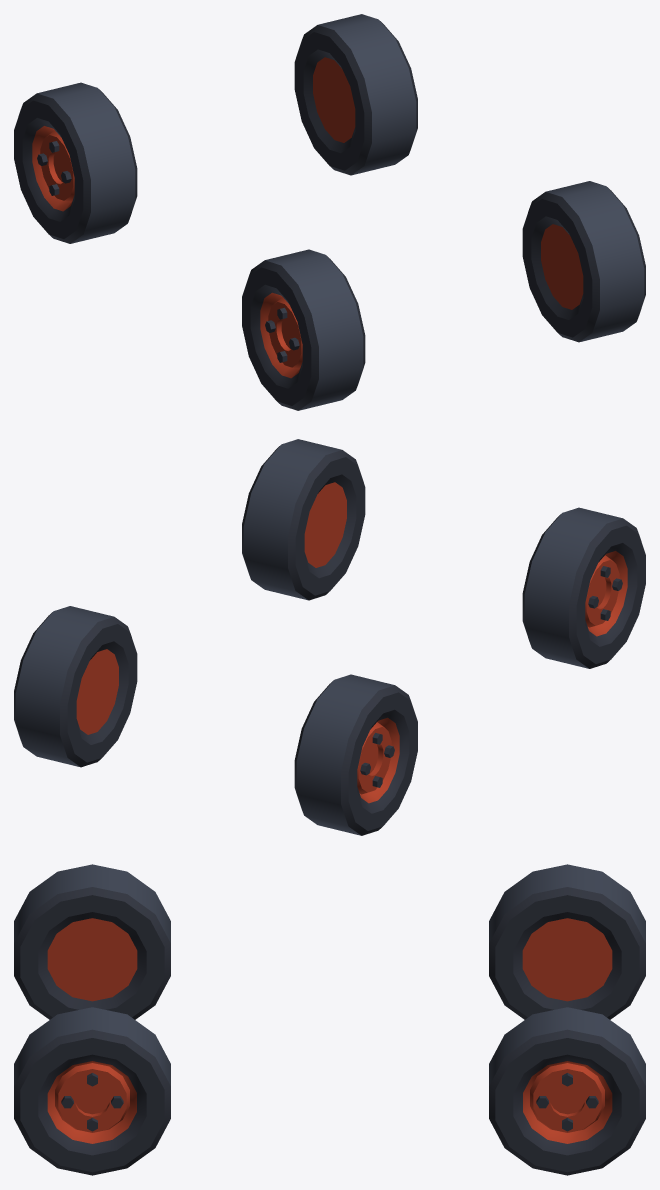
The model's file is WheelsHeavy.fbx.
3 views of the same model, one above another, from view 1: azimuth 30°, elevation 25°; view 2: azimuth 150°, elevation 25°; view 3: azimuth 270°, elevation 25° (orthographic). The views are drawn at different scales.
Visible parts, largest first — view 1: WheelHeavyFrontRight, WheelHeavyRearLeft, WheelHeavyFrontLeft, WheelHeavyRearRight; view 2: WheelHeavyFrontLeft, WheelHeavyRearRight, WheelHeavyFrontRight, WheelHeavyRearLeft; view 3: WheelHeavyFrontLeft, WheelHeavyRearLeft, WheelHeavyRearRight, WheelHeavyFrontRight.
Boxes of the visible parts, left/top/right/bottom form: WheelHeavyFrontRight: left=242, top=249, right=365, bottom=410; WheelHeavyRearLeft: left=294, top=14, right=417, bottom=175; WheelHeavyFrontLeft: left=522, top=181, right=645, bottom=342; WheelHeavyRearRight: left=14, top=82, right=137, bottom=243; WheelHeavyFrontLeft: left=242, top=439, right=365, bottom=600; WheelHeavyRearRight: left=294, top=674, right=417, bottom=835; WheelHeavyFrontRight: left=522, top=507, right=645, bottom=668; WheelHeavyRearLeft: left=14, top=606, right=137, bottom=767; WheelHeavyFrontLeft: left=14, top=1007, right=170, bottom=1175; WheelHeavyRearLeft: left=489, top=1007, right=645, bottom=1175; WheelHeavyRearRight: left=489, top=864, right=645, bottom=1019; WheelHeavyFrontRight: left=14, top=864, right=170, bottom=1019.
Bounding box in the file's own units: 185 × 74.13 × 291.
